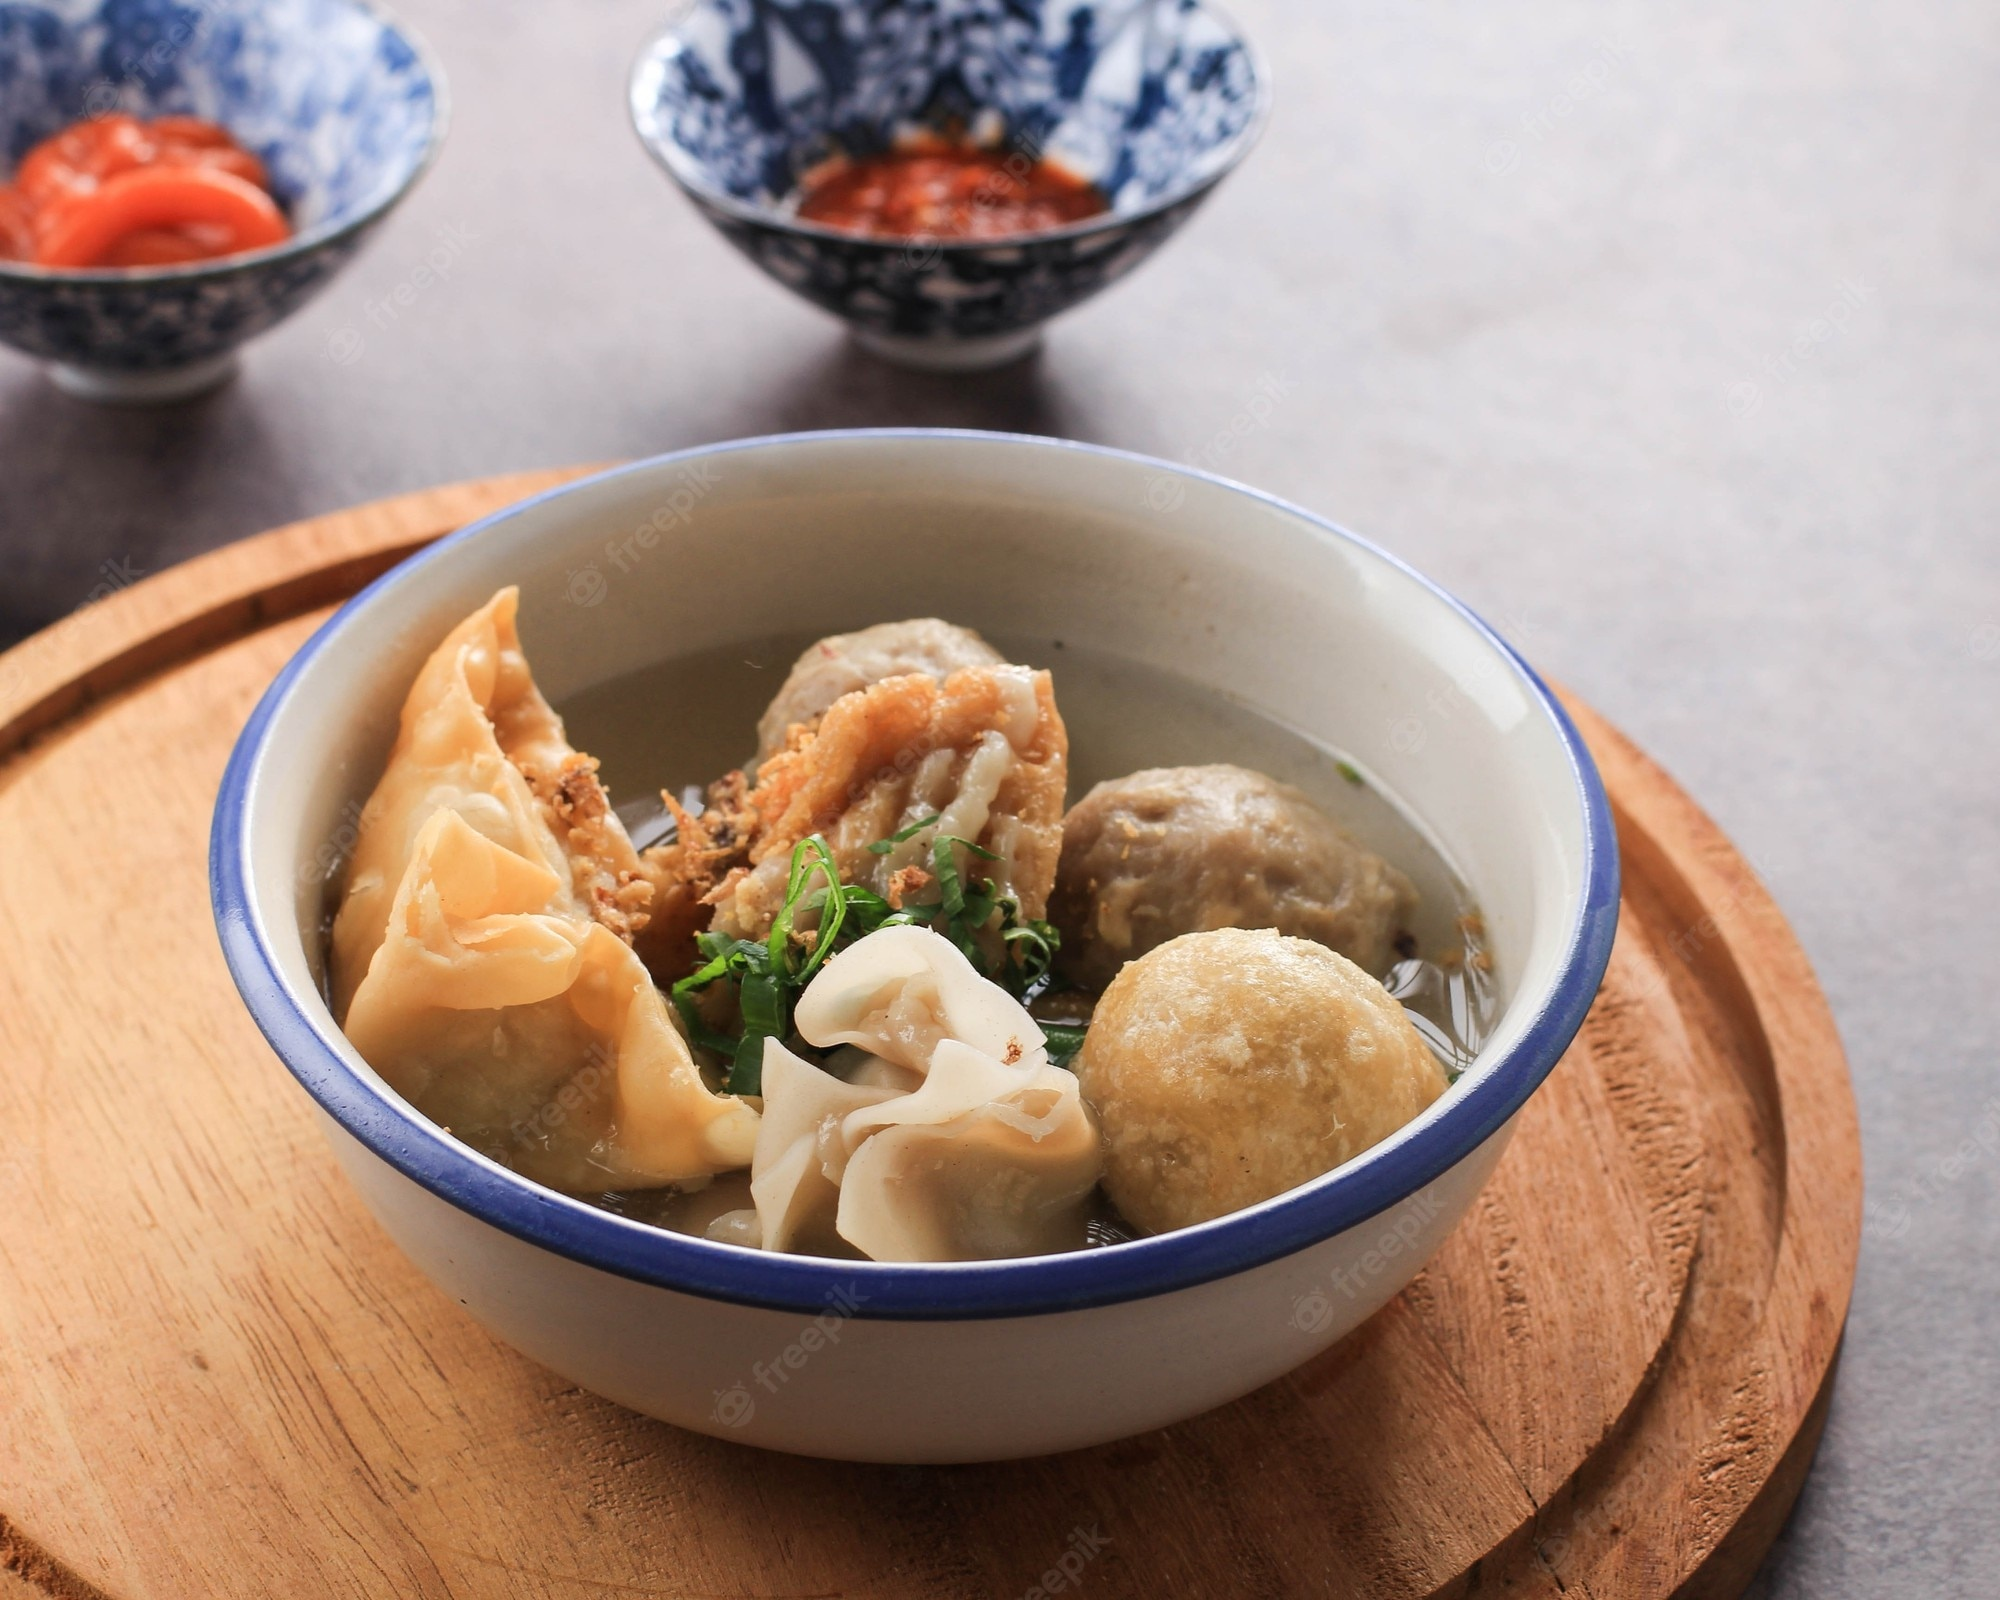bakso_malang: (325, 584, 1499, 1260)
